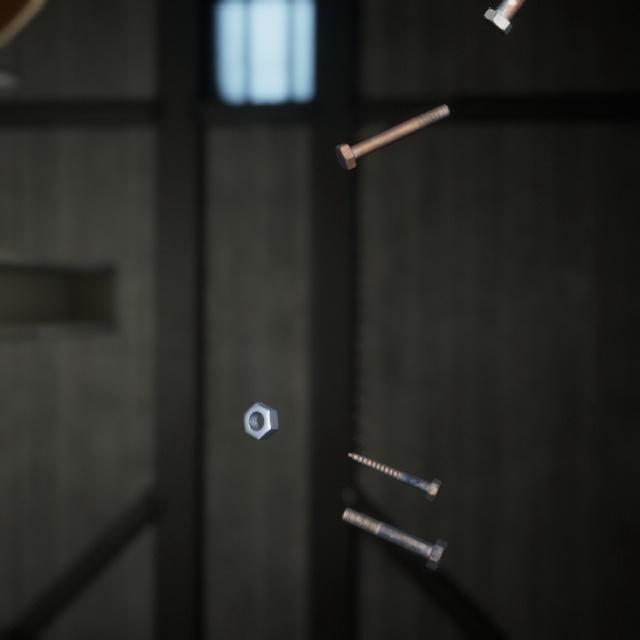bolt: (330, 88, 454, 162), (337, 482, 451, 552), (344, 428, 446, 486), (479, 0, 527, 35)
nut: (239, 377, 282, 423)
